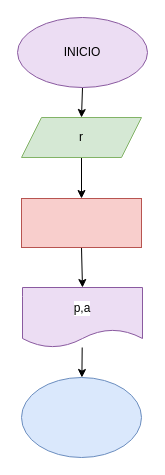
The diagram is 165 pixels wide and 475 high, and some of its shapes have lost their labels. The shapes that lost their labels are listed below. From the top down, each one's centre as x and y in pixels, then its label:
point 81,223: P=2 π A= πr 2
point 81,417: FIN
